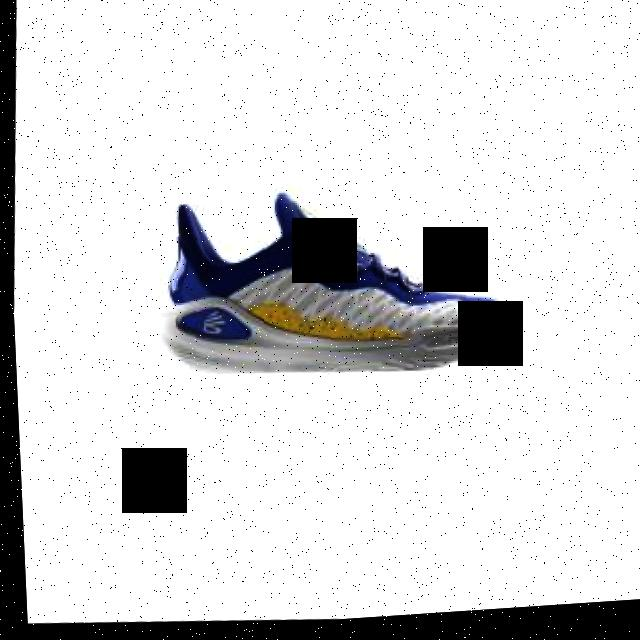shoe: (152, 180, 514, 394)
